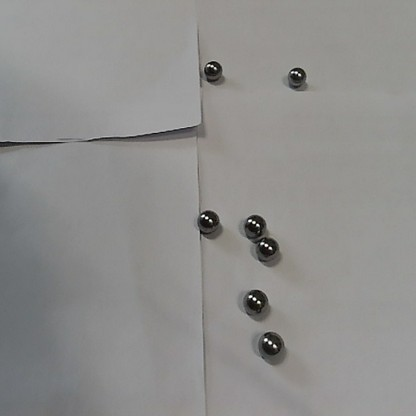ironball: (241, 287, 269, 316), (258, 331, 283, 356), (195, 208, 219, 233), (254, 235, 278, 259), (244, 214, 264, 237), (203, 59, 220, 79), (288, 66, 304, 85)
